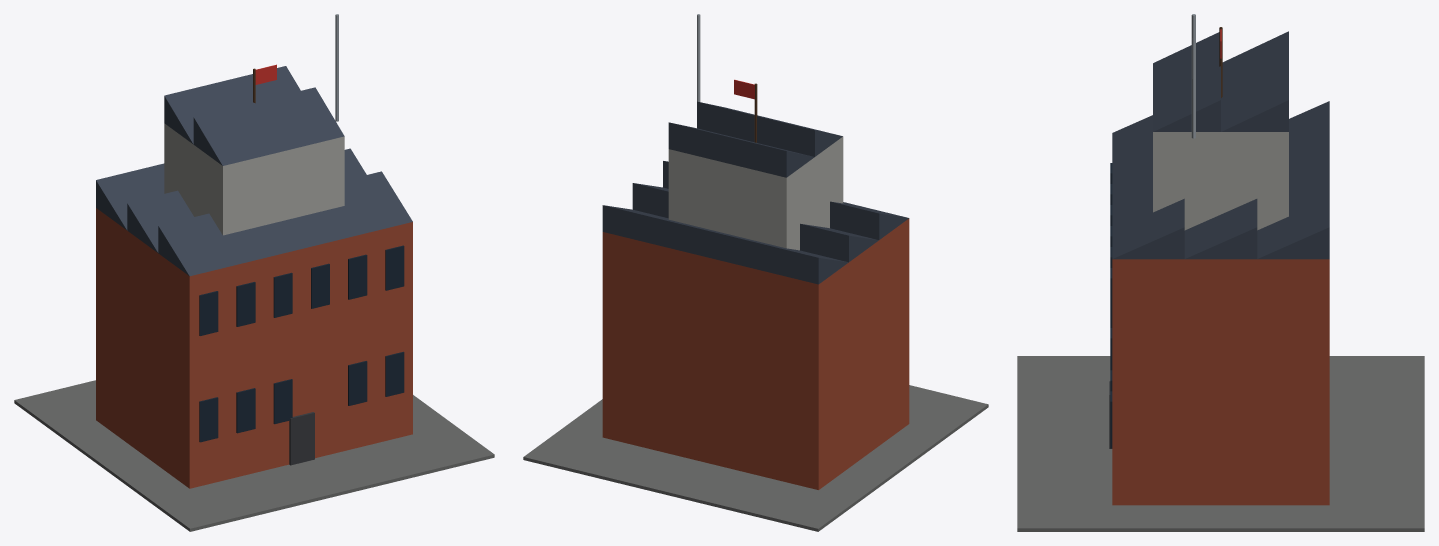
File: bld_special_command_center_a05_lod1.glb
The picture shows the model from 3 angles, left to right: view 1: azimuth 30°, elevation 25°; view 2: azimuth 150°, elevation 25°; view 3: azimuth 270°, elevation 25°; orthographic projection. The views are drawn at different scales.
Visible parts, largest first — view 1: body; view 2: body; view 3: body.
Boxes of the visible parts, left/top/right/bottom form: body: left=14, top=14, right=494, bottom=531; body: left=523, top=14, right=988, bottom=531; body: left=1017, top=14, right=1424, bottom=531.
Bounding box in the file's own units: 15 × 19.15 × 15.
